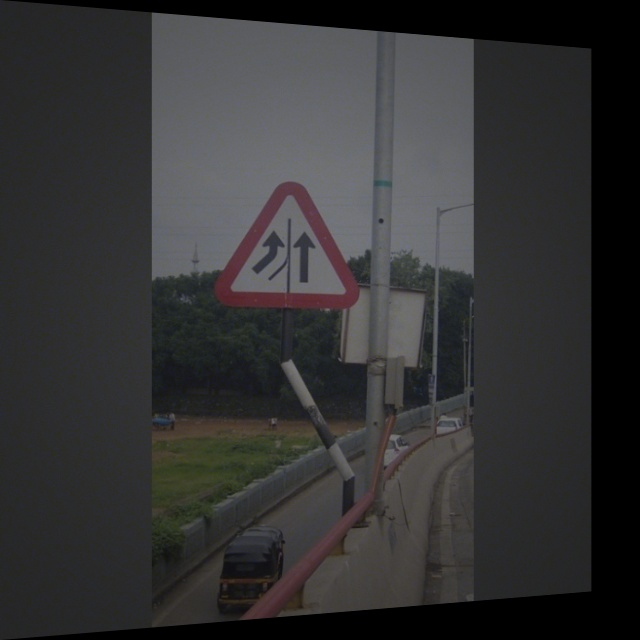Merge_Traffic_Ahead: (215, 172, 363, 318)
